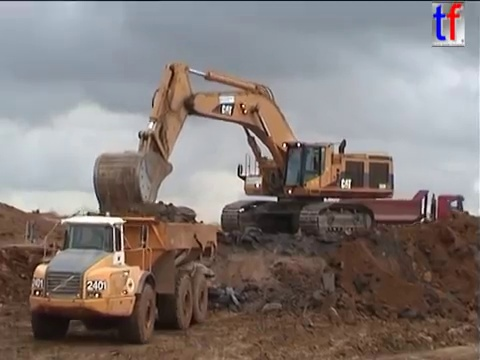excavator: (90, 59, 397, 244)
truck: (26, 210, 221, 346), (337, 188, 472, 236)
